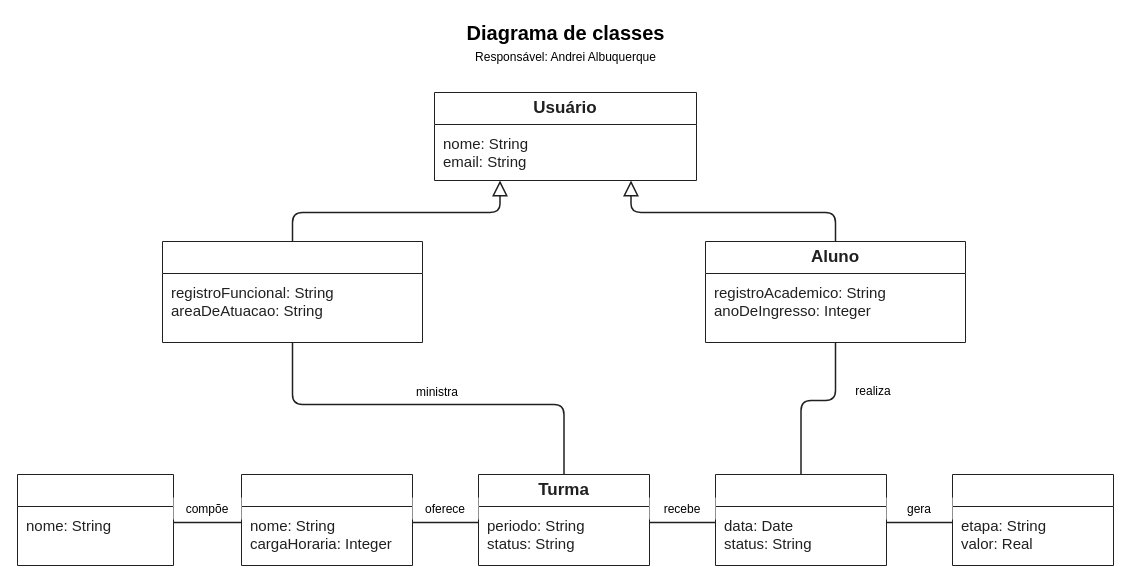
The diagram is 1131 pixels wide and 583 high, and some of its shapes have lost their labels. Each missing label, with the box of its shape:
Curso: (16, 474, 174, 566)
Disciplina: (240, 474, 412, 566)
Matrícula: (714, 474, 886, 566)
Nota: (952, 474, 1114, 566)
Professor: (162, 240, 422, 342)
